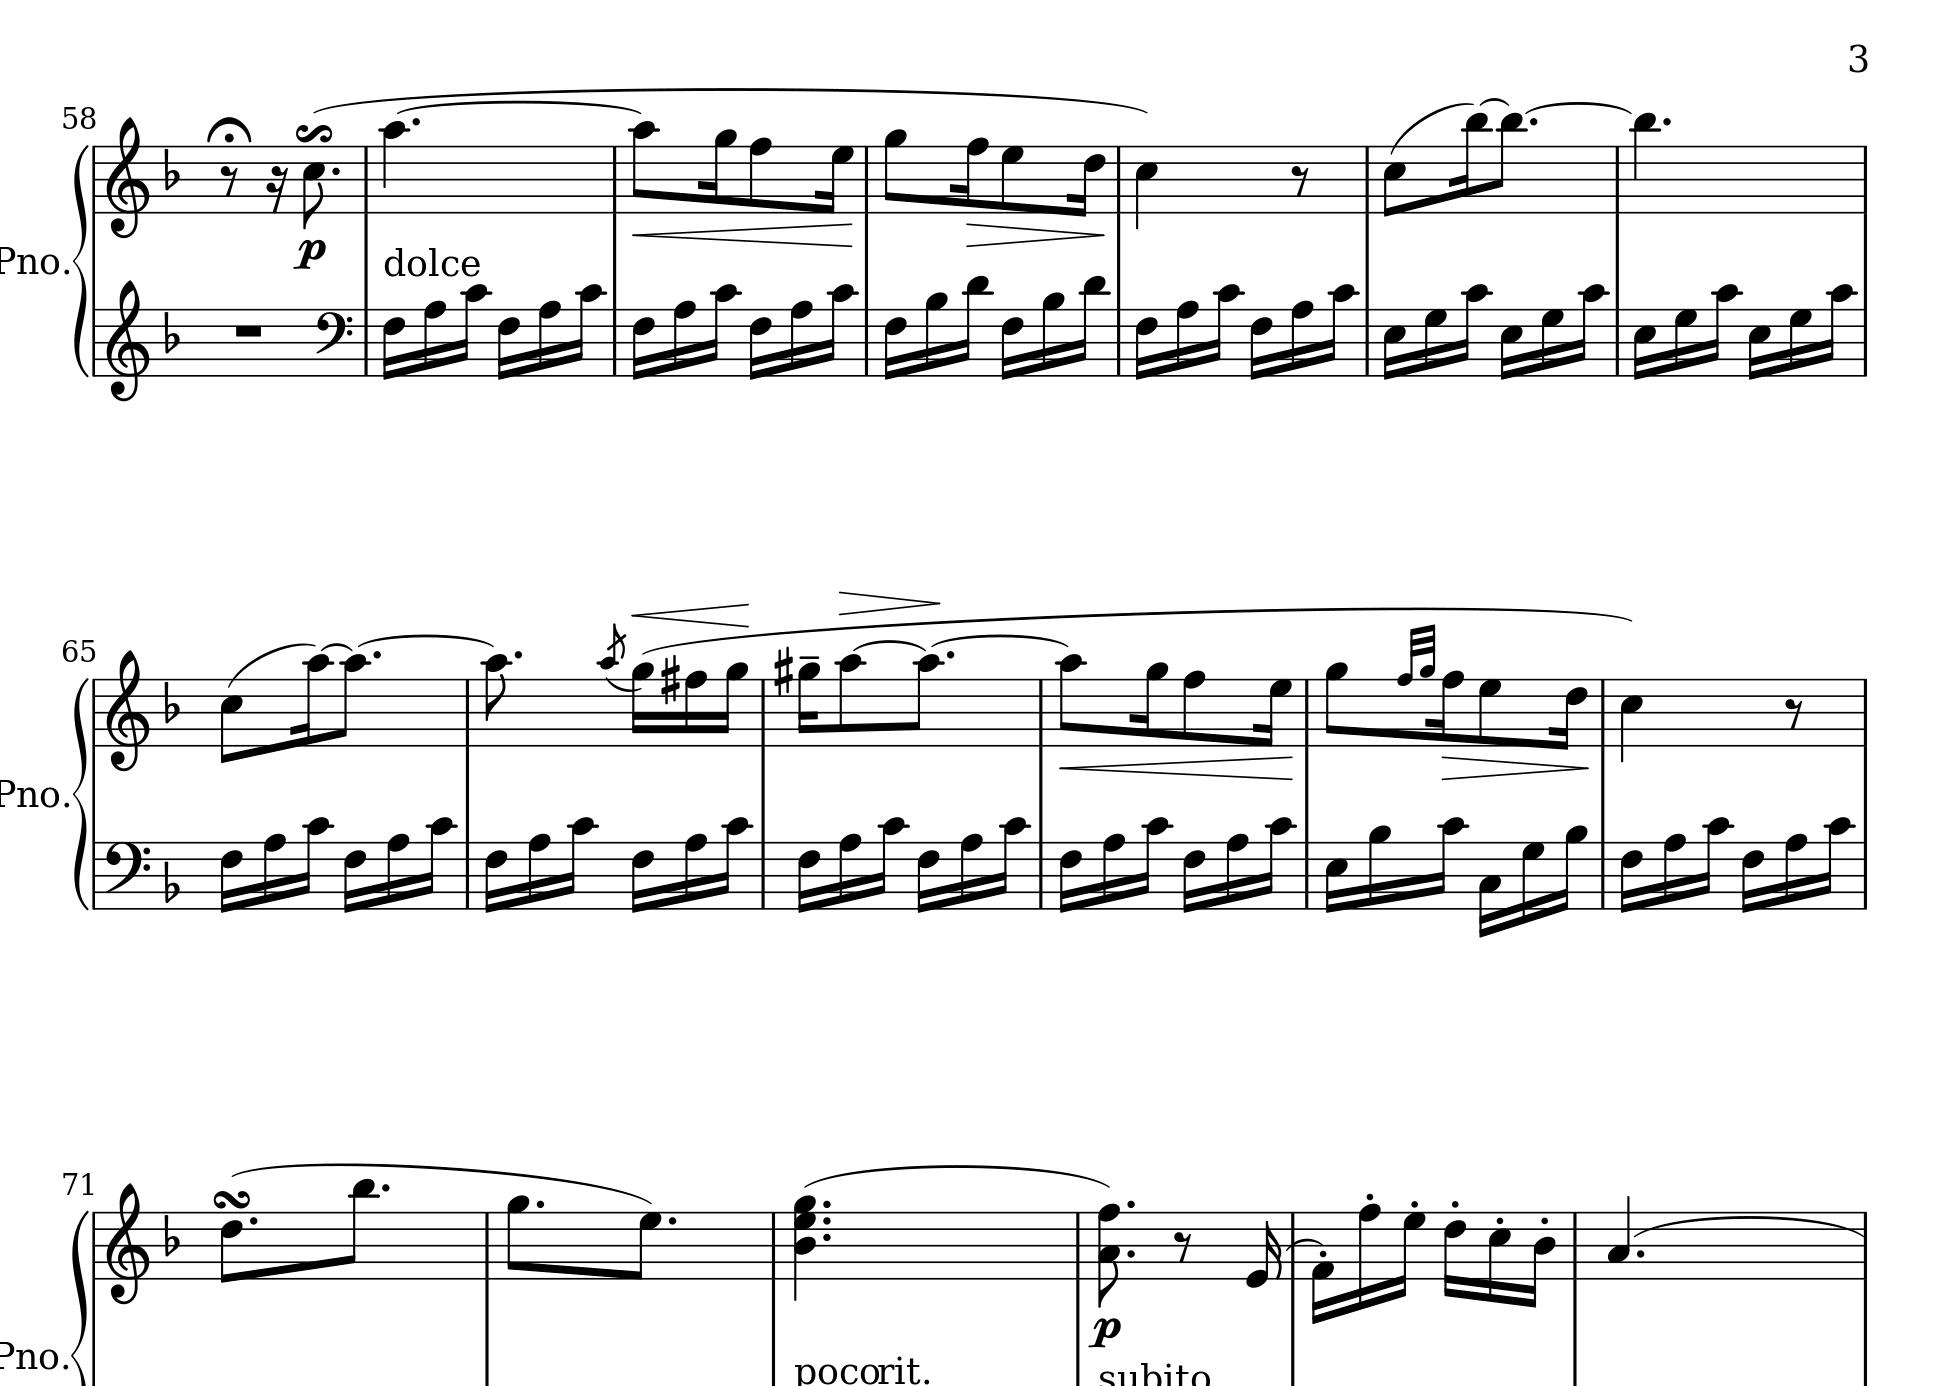1: (79, 1170, 96, 1198)
16_0: (1245, 1210, 1284, 1288)
16_1: (1311, 1209, 1335, 1324)
16_10: (292, 652, 331, 748), (717, 814, 751, 910), (873, 814, 907, 910), (1261, 814, 1296, 910), (1698, 814, 1732, 910), (1573, 283, 1608, 378), (457, 282, 490, 379), (706, 282, 739, 379), (1209, 282, 1242, 379), (1458, 282, 1491, 379), (1707, 282, 1740, 379), (571, 283, 604, 379), (823, 283, 856, 379), (1324, 283, 1357, 379), (298, 814, 331, 910), (421, 814, 454, 910), (562, 814, 595, 910), (996, 814, 1029, 910), (1138, 814, 1171, 910), (1434, 814, 1467, 910), (1821, 814, 1854, 910), (1822, 283, 1855, 376)
16_11: (1450, 111, 1489, 214), (957, 273, 991, 379), (1074, 274, 1108, 379)
16_3: (1477, 838, 1503, 939)
16_4: (1525, 1210, 1557, 1308)
16_5: (1486, 1209, 1512, 1305), (1323, 840, 1350, 913), (1381, 306, 1407, 381), (1498, 306, 1524, 381), (1632, 306, 1657, 381), (1746, 307, 1771, 381)
16_6: (1069, 144, 1107, 219), (1552, 676, 1588, 751), (1443, 1209, 1467, 1300), (747, 306, 772, 381), (999, 304, 1024, 379), (1248, 306, 1273, 381), (217, 838, 243, 913), (342, 838, 367, 913), (483, 838, 508, 913), (630, 838, 655, 913), (1057, 838, 1083, 913), (1618, 838, 1644, 913), (1740, 838, 1765, 913), (381, 307, 406, 381), (630, 306, 655, 379), (882, 306, 907, 379), (496, 306, 520, 381), (796, 838, 820, 913), (916, 838, 940, 913), (1182, 838, 1206, 913), (1134, 306, 1158, 379)
16_7: (1393, 1209, 1426, 1300), (1255, 676, 1293, 748), (817, 144, 855, 214), (1519, 838, 1545, 925), (1786, 304, 1812, 379), (1672, 304, 1698, 378), (1422, 304, 1446, 379), (1539, 304, 1563, 379)
16_8: (952, 136, 988, 214), (1428, 669, 1464, 747), (1356, 1201, 1381, 1311), (535, 298, 561, 379), (670, 298, 696, 378), (787, 298, 813, 378), (1174, 298, 1200, 378), (1288, 298, 1314, 378), (682, 669, 708, 748), (261, 831, 286, 910), (384, 831, 409, 910), (835, 831, 861, 910), (958, 831, 984, 910), (1224, 831, 1249, 910), (421, 298, 445, 378), (526, 831, 550, 910), (682, 831, 706, 910), (1101, 831, 1125, 910), (1662, 831, 1686, 910), (1783, 831, 1807, 910)
16_9: (700, 126, 736, 214), (1131, 658, 1167, 747), (715, 658, 748, 748), (1557, 823, 1587, 913), (795, 660, 820, 748), (1366, 822, 1392, 910), (628, 658, 652, 748), (922, 289, 946, 378), (1041, 289, 1065, 378)
3: (1848, 40, 1869, 73)
4_10: (379, 120, 409, 216)
4_11: (1632, 111, 1659, 214)
4_3: (1606, 1195, 1632, 1281)
4_5: (1134, 142, 1159, 231), (1618, 676, 1644, 763)
5: (79, 636, 97, 664), (61, 103, 79, 130)
6: (61, 637, 79, 664)
7: (61, 1168, 79, 1198)
8: (78, 103, 97, 130)
8_10: (906, 652, 940, 748), (334, 652, 367, 748), (481, 652, 511, 748), (630, 120, 658, 216), (835, 652, 864, 748), (1057, 652, 1084, 748)
8_11: (340, 1177, 376, 1281), (1492, 111, 1524, 214)
8_3_8: (1095, 1201, 1123, 1309)
8_5: (217, 676, 244, 763), (301, 145, 325, 229), (1383, 145, 1407, 219)
8_6: (219, 1210, 244, 1285)
8_7: (628, 1210, 663, 1282), (999, 142, 1026, 214), (1476, 676, 1503, 748)
8_8: (747, 135, 772, 214), (1182, 667, 1206, 748)
8_9: (505, 1192, 532, 1281), (1324, 660, 1350, 748), (882, 127, 907, 214)
Acciaccature: (598, 622, 627, 747)
Appoggiature_2: (1396, 619, 1437, 742)
Brace: (70, 141, 90, 379), (70, 673, 90, 912), (70, 1204, 90, 1386)
Crescendo_hairpin: (1059, 754, 1293, 781), (630, 223, 850, 247), (633, 603, 750, 628)
Diminuendo_hairpin: (1443, 756, 1590, 781), (969, 220, 1101, 246), (834, 589, 943, 616)
Fclef: (100, 838, 150, 910), (313, 307, 354, 378)
Fermata_above: (205, 115, 252, 142)
Flat: (160, 145, 181, 192), (160, 1210, 181, 1257), (160, 679, 181, 724), (162, 307, 181, 355), (162, 858, 181, 904)
Gclef: (103, 277, 151, 403), (103, 114, 151, 238), (103, 646, 148, 772), (103, 1180, 148, 1305)
Inverted_turn: (292, 121, 334, 144)
Pno: (1, 1336, 58, 1371), (1, 775, 60, 808), (1, 243, 60, 274)
Rests1: (229, 319, 267, 339)
Rests16: (265, 165, 288, 214)
Rests8: (1171, 1228, 1194, 1264), (219, 163, 240, 196), (1290, 163, 1311, 196), (1785, 696, 1804, 729)
Sharp: (658, 652, 681, 706), (772, 643, 793, 697)
Single_barline: (606, 145, 624, 213), (1299, 678, 1317, 745), (1359, 145, 1377, 211), (754, 679, 772, 745), (478, 1213, 496, 1278), (1111, 145, 1128, 214), (859, 145, 876, 213), (1111, 307, 1128, 375), (1033, 678, 1050, 745), (1857, 145, 1873, 211), (1609, 145, 1626, 211), (1857, 678, 1873, 744), (459, 679, 475, 745), (1594, 679, 1611, 745), (754, 841, 771, 907), (1033, 841, 1050, 907), (765, 1212, 781, 1278), (1567, 1212, 1584, 1278), (358, 307, 373, 375), (607, 307, 622, 375), (859, 307, 874, 375), (1360, 307, 1375, 375), (1611, 307, 1626, 375), (1284, 1209, 1299, 1276), (87, 1212, 102, 1279), (358, 145, 373, 211), (460, 841, 475, 907), (1299, 841, 1314, 907), (1596, 841, 1611, 907), (1071, 1212, 1086, 1278), (1858, 1210, 1872, 1279), (1858, 309, 1872, 376), (88, 678, 102, 745), (88, 145, 102, 211), (88, 841, 102, 907), (1858, 841, 1872, 907), (88, 309, 100, 375)
Slur: (1389, 97, 1473, 156), (225, 639, 318, 688), (396, 100, 646, 115), (924, 633, 1074, 649), (358, 634, 499, 646), (1527, 100, 1632, 114), (850, 639, 928, 651), (604, 675, 636, 691), (319, 642, 355, 652), (1479, 97, 1512, 108), (1287, 1237, 1323, 1246)
Turn: (213, 1186, 250, 1210)
dot: (228, 1206, 259, 1224), (1660, 114, 1674, 129), (511, 646, 525, 661), (246, 1212, 259, 1227), (666, 1213, 679, 1228), (328, 163, 342, 177), (370, 648, 384, 661), (532, 1197, 546, 1210), (820, 1213, 834, 1227), (820, 1230, 834, 1243), (379, 1180, 391, 1195), (820, 1195, 832, 1210), (409, 115, 421, 129), (1527, 115, 1540, 127), (1635, 1246, 1647, 1260), (1125, 1198, 1137, 1210), (1125, 1246, 1137, 1258), (945, 649, 955, 661)
p: (1089, 1314, 1123, 1351), (292, 237, 327, 271)
